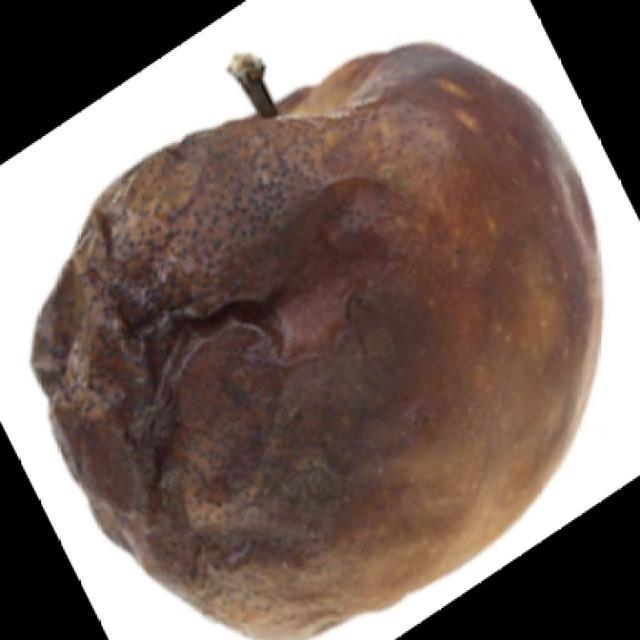Rotten: (37, 47, 585, 628)
